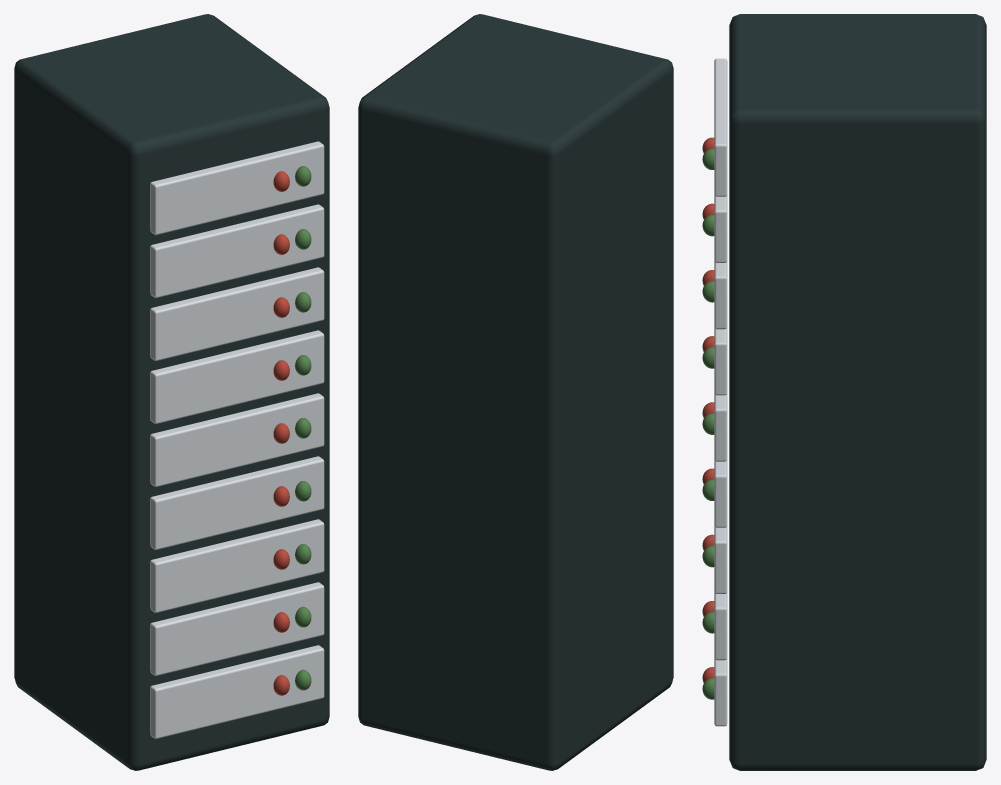
The model's file is wp-module-de-serveur.glb.
The picture shows the model from 3 angles, left to right: view 1: azimuth 30°, elevation 25°; view 2: azimuth 150°, elevation 25°; view 3: azimuth 270°, elevation 25°; orthographic projection. The views are drawn at different scales.
Visible parts, largest first — view 1: wp-module-de-serveur; view 2: wp-module-de-serveur; view 3: wp-module-de-serveur.
Part boxes in pixels (left/top/right/bottom): wp-module-de-serveur: left=14, top=14, right=329, bottom=770; wp-module-de-serveur: left=358, top=14, right=673, bottom=770; wp-module-de-serveur: left=702, top=14, right=986, bottom=770.
Bounding box in the file's own units: 0.6 × 1.8 × 0.7.
